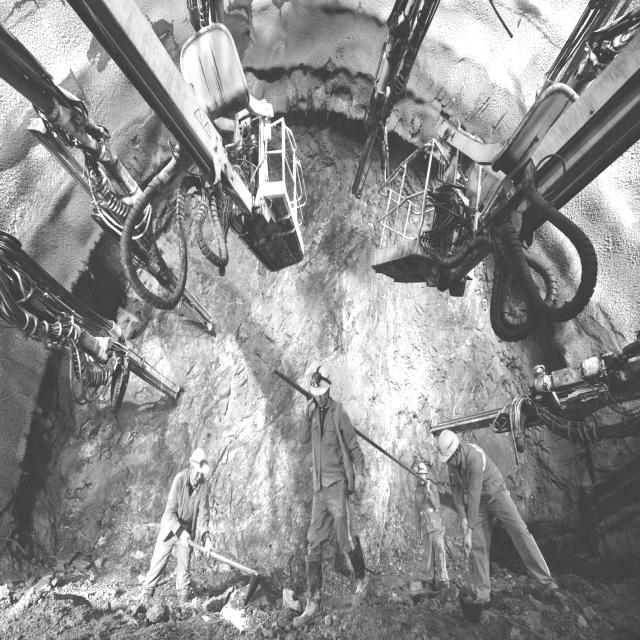hand_glove: (200, 535, 219, 557), (178, 528, 192, 550)
hand_noglove: (352, 476, 370, 502), (296, 394, 312, 416), (462, 531, 475, 556)
head_helmet: (437, 430, 460, 466), (304, 367, 332, 396), (188, 449, 212, 473), (415, 461, 428, 475)
person: (301, 362, 354, 593), (152, 442, 222, 588), (462, 426, 508, 600), (413, 465, 444, 582)
shoes: (290, 572, 327, 630), (343, 554, 373, 608)
vest: (308, 404, 352, 491), (168, 480, 214, 518), (462, 444, 492, 500), (411, 490, 438, 531)
